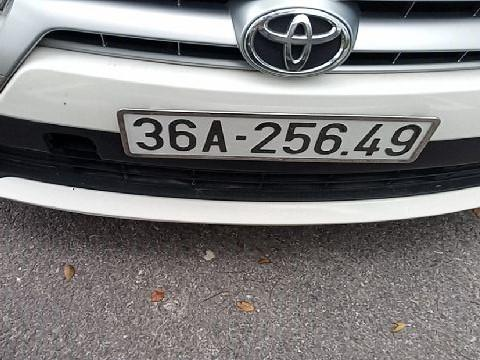lisence: (116, 108, 442, 167)
